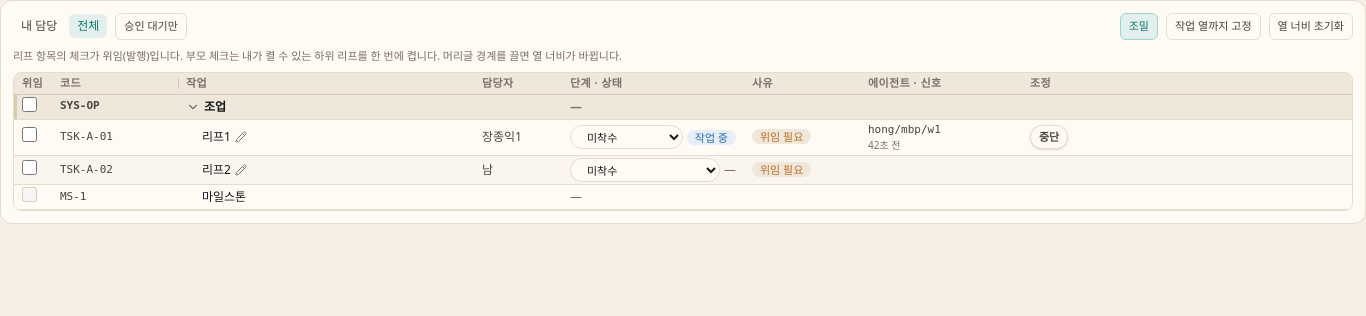
DelegationTable — 체크는 즉시 표시·잠기지 않음, 1.5초 모아 묶음 1건, 응답의 허브로 교체(2026-09-14 체크 지연 개선) › 두 건 이상 실패는 표 위 알림 줄에 코드로
Click the checkbox named "하위 2건 한 번에 위임" at (30, 104), box [22, 96, 37, 112]
Wait 1500 ms
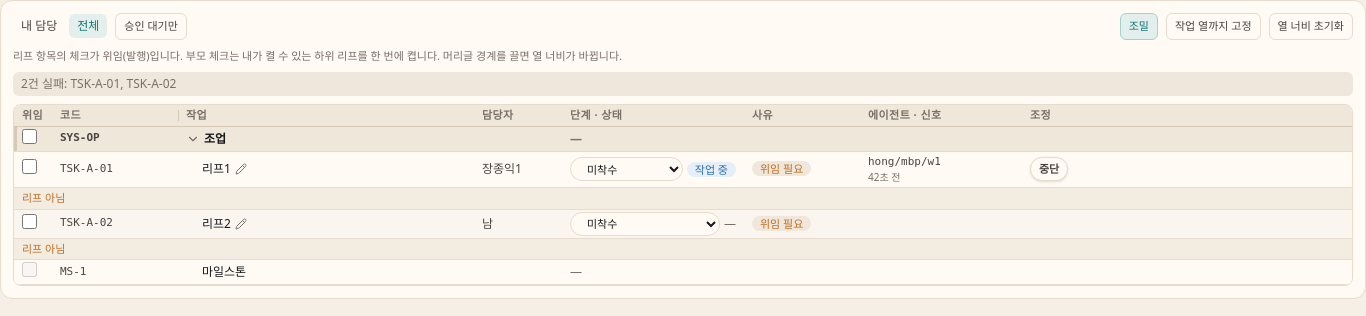
Now the message "2건 실패: TSK-A-01, TSK-A-02" is shown, box [13, 72, 1353, 96]
Now the 1st text "리프 아님" is shown, box [22, 190, 65, 205]
